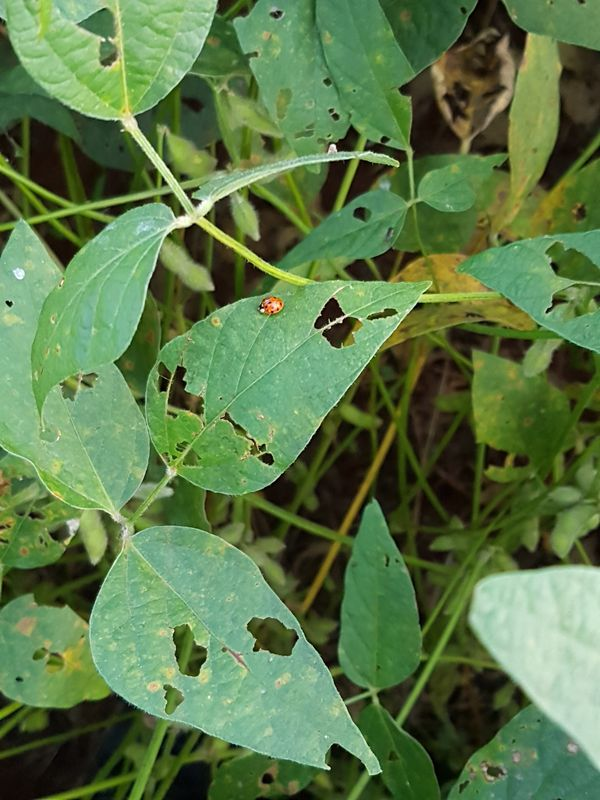Coccinellidae: (250, 289, 288, 323)
